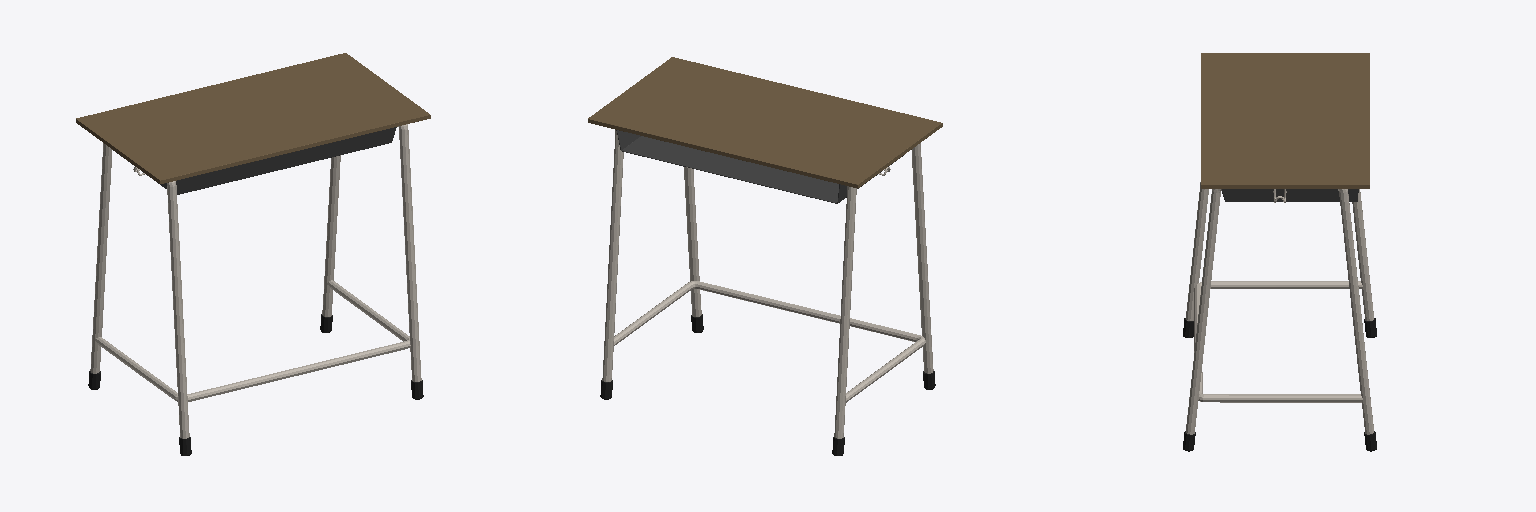
Rendered from Desk.obj.
3 renders of one model, left to right at view 1: azimuth 30°, elevation 25°; view 2: azimuth 150°, elevation 25°; view 3: azimuth 270°, elevation 25°, orthographic.
Parts seen in each view (by area): view 1: Desk; view 2: Desk; view 3: Desk.
Part boxes in pixels (x1,y1,x2,y2): Desk: (76, 53, 430, 455); Desk: (588, 57, 942, 455); Desk: (1183, 53, 1376, 451).
Bounding box in the file's own units: 83.52 × 81.01 × 51.96.